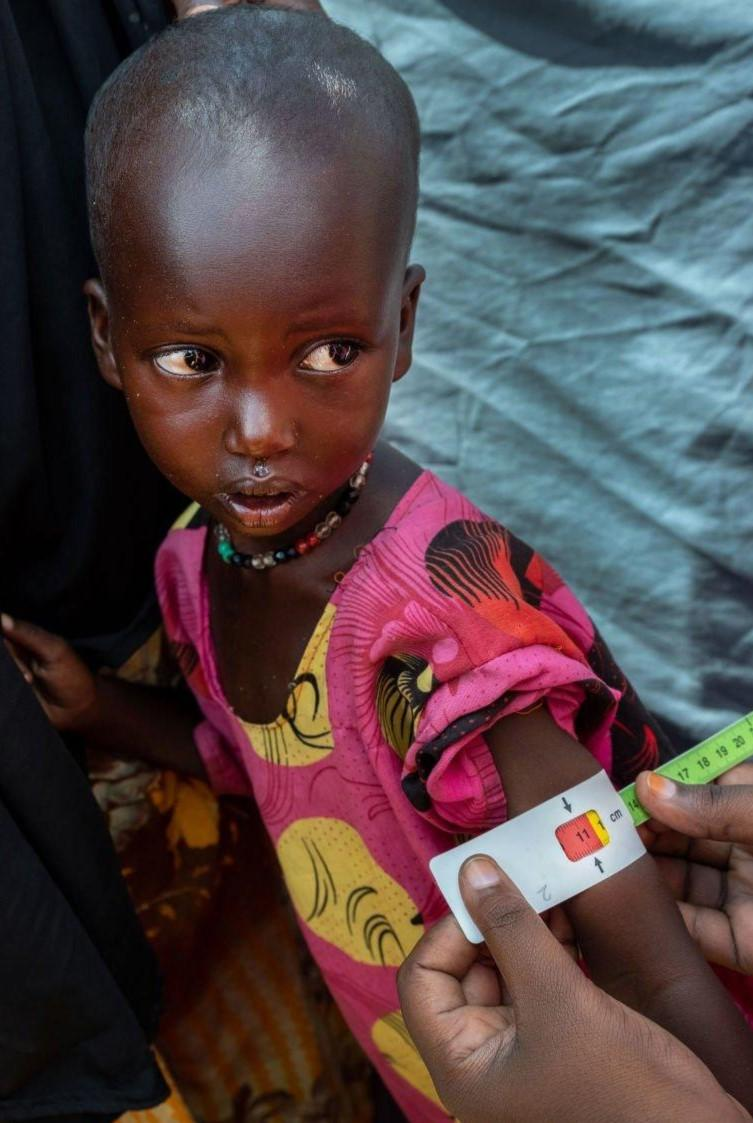Stunting: (50, 27, 497, 640)
